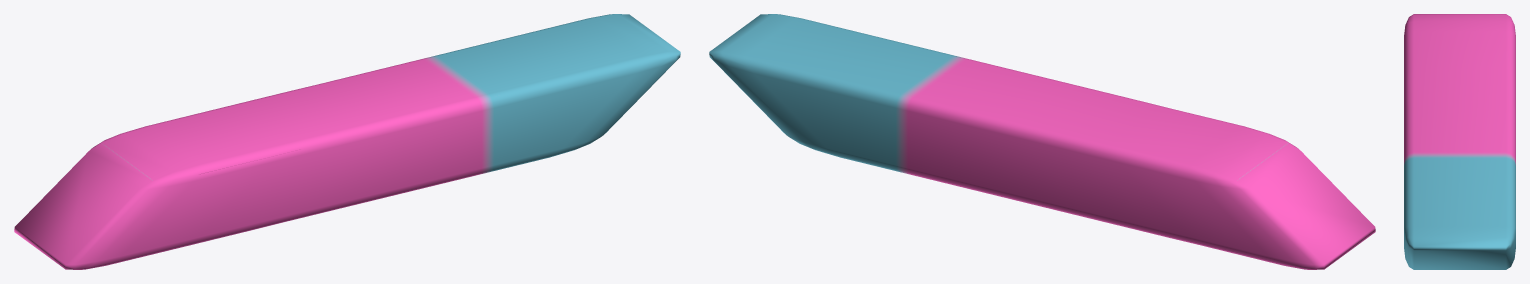
Rendered from gomme.fbx.
3 views of the same model, side by side, from view 1: azimuth 30°, elevation 25°; view 2: azimuth 150°, elevation 25°; view 3: azimuth 270°, elevation 25° (orthographic). The views are drawn at different scales.
Visible parts, largest first — view 1: Cube; view 2: Cube; view 3: Cube.
Part boxes in pixels (left/top/right/bottom): Cube: left=14, top=14, right=680, bottom=269; Cube: left=709, top=14, right=1375, bottom=269; Cube: left=1404, top=14, right=1515, bottom=269.
Bounding box in the file's own units: 114 × 13.64 × 20.
